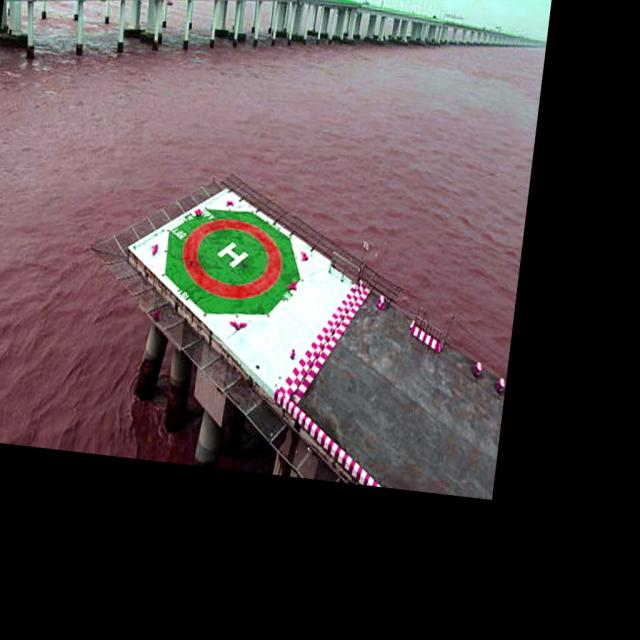helipad: (180, 216, 284, 301)
